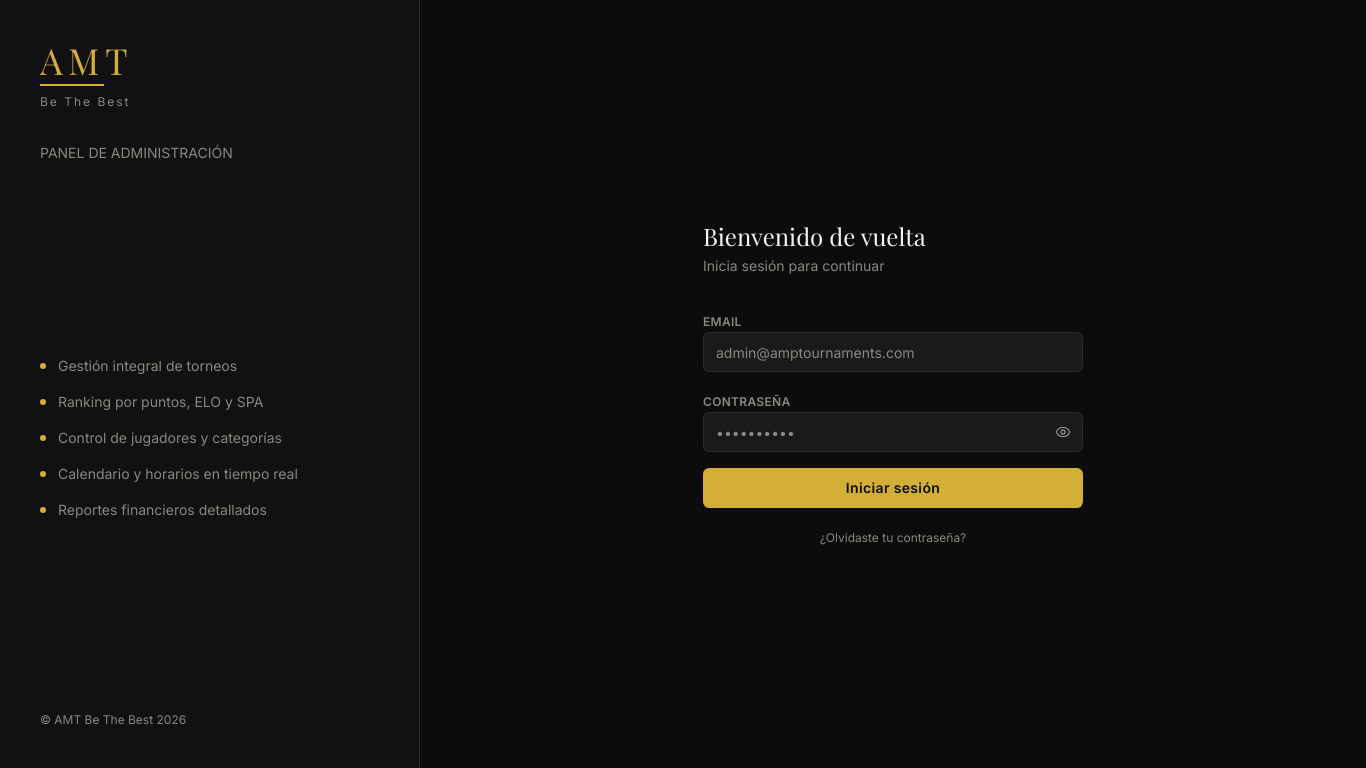
Test: LoginForm › muestra error de validación con email inválido
Type "noesunemail" into the field with placeholder "admin@amptournaments.com" at (893, 352), box [703, 332, 1083, 372]
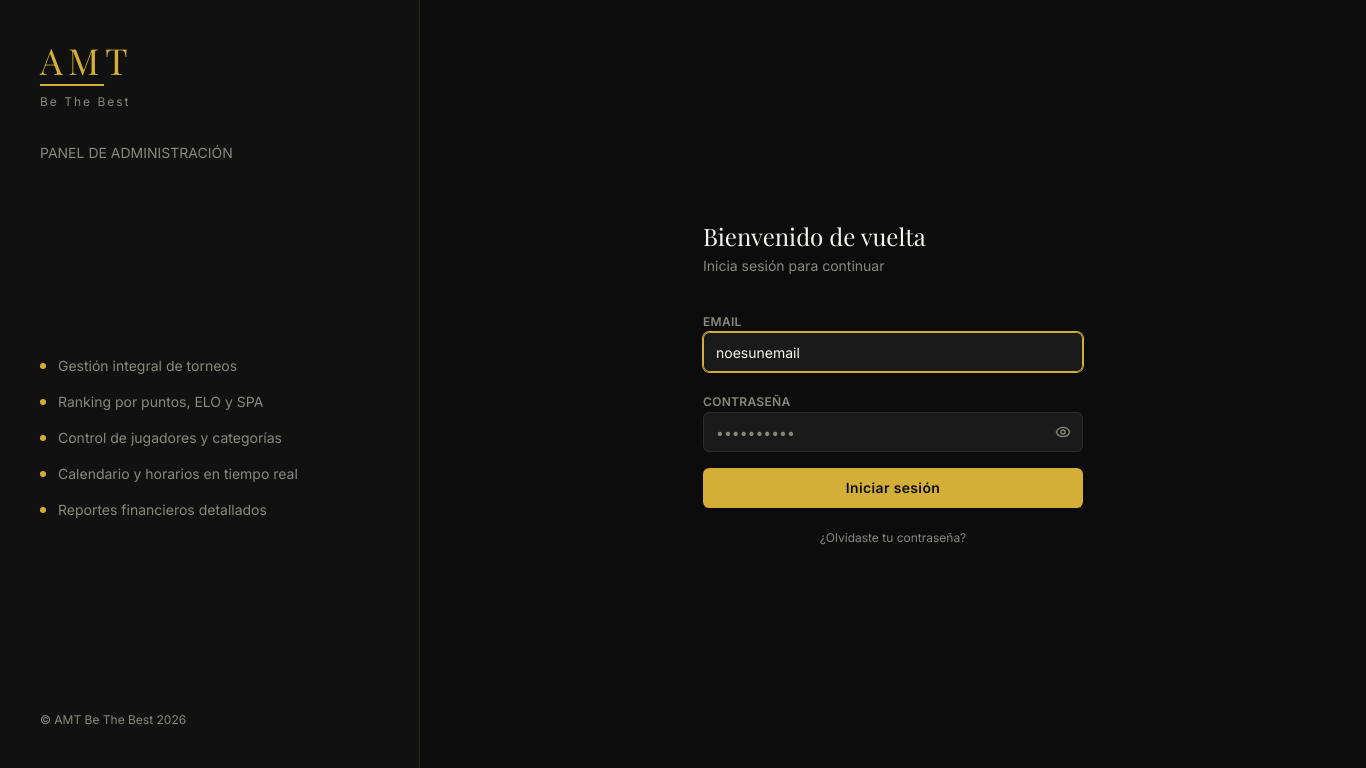
Submit the form "Email Contraseña Iniciar sesión ¿Olvidaste tu contraseña?", box [703, 308, 1083, 548]
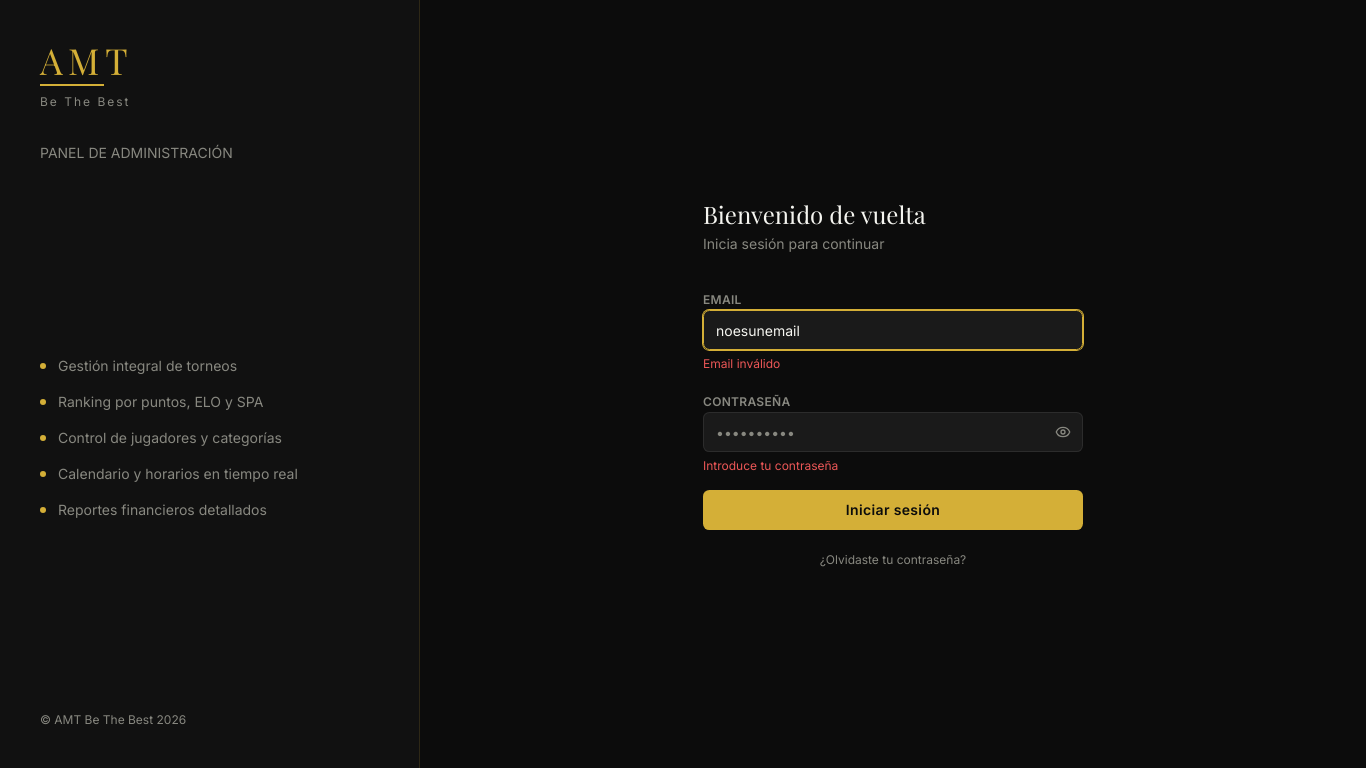
Expected: the text "Email inválido" is shown, [703, 356, 780, 371]
